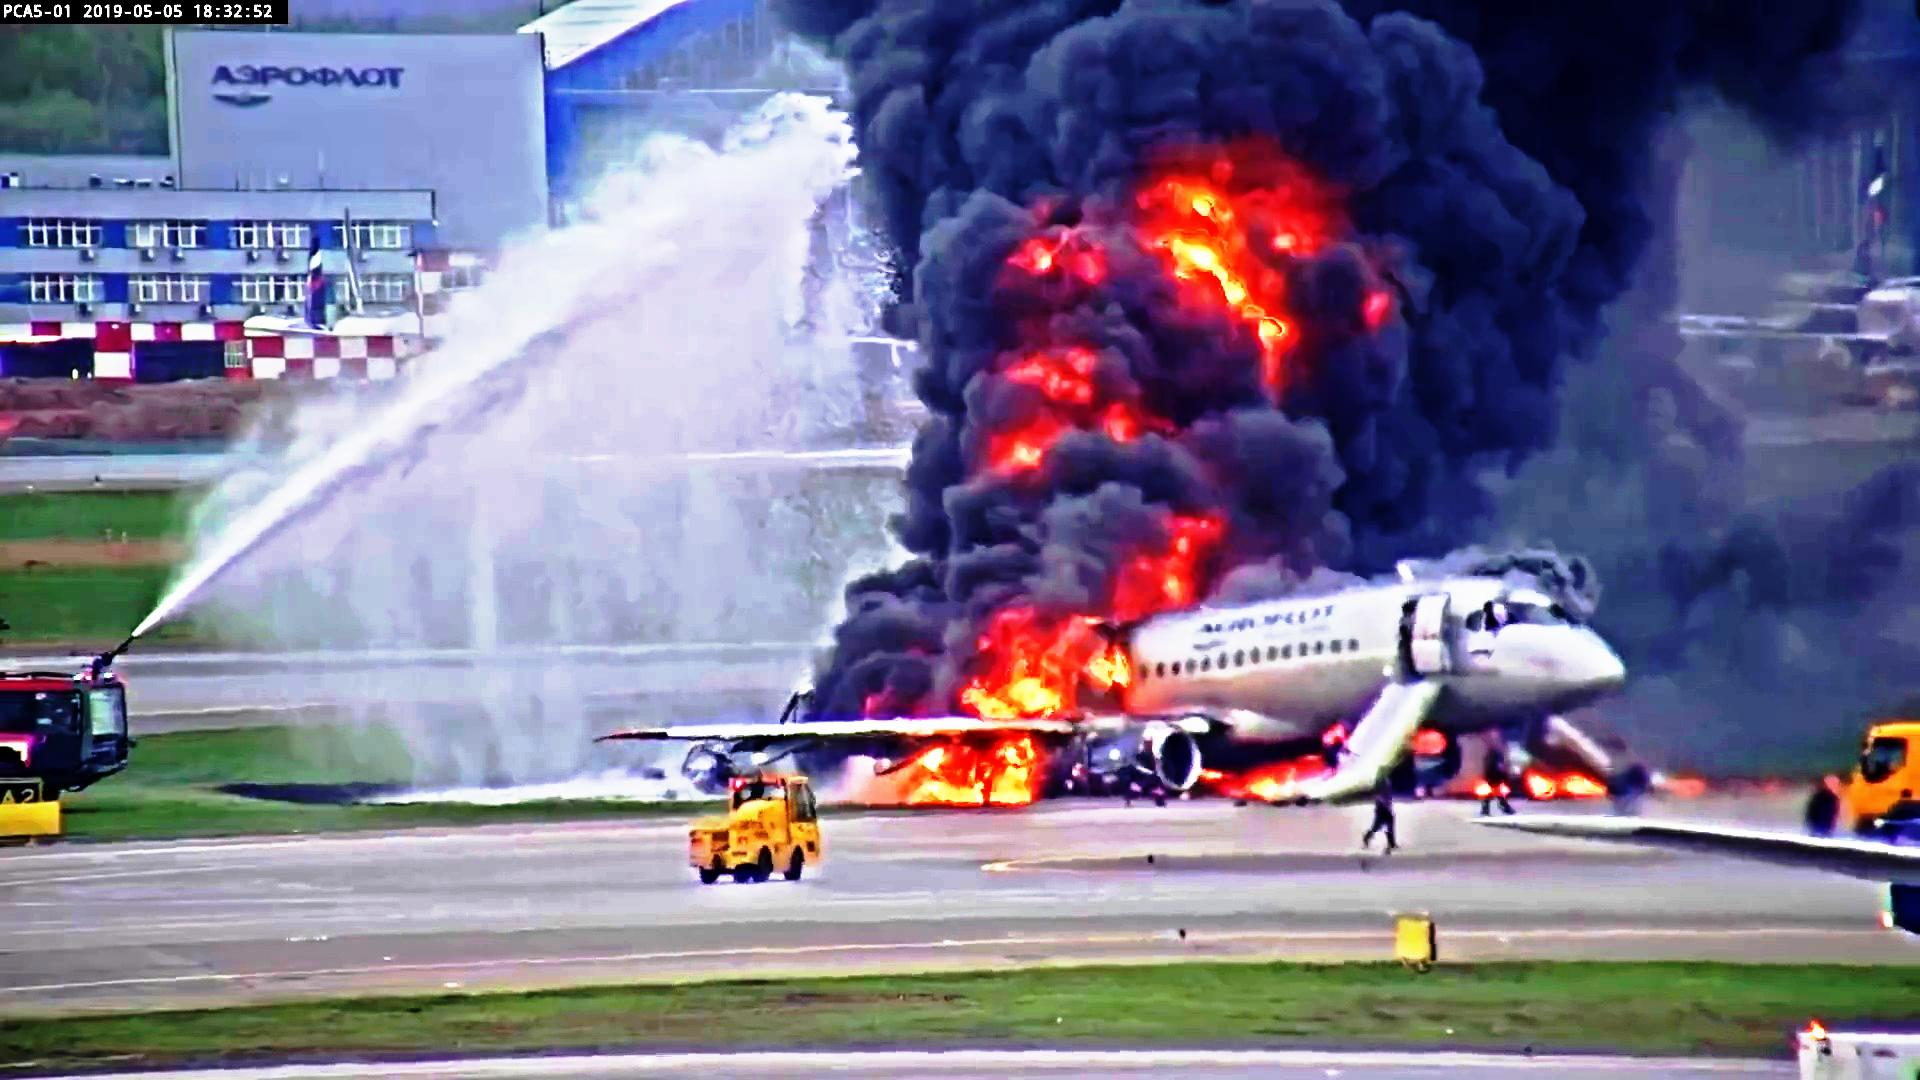fire: (988, 621, 1087, 708), (935, 745, 1027, 798)
smoke: (884, 3, 1491, 553)
